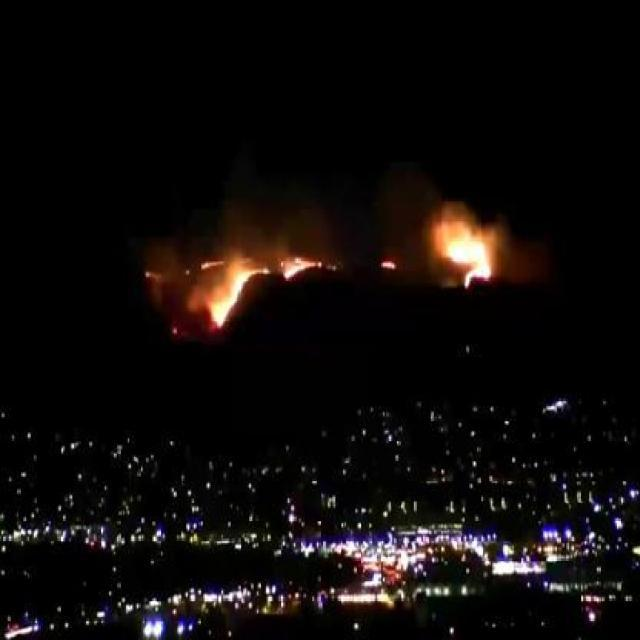Fire: (438, 212, 494, 294), (203, 268, 265, 335), (282, 252, 322, 282), (381, 256, 396, 270)
